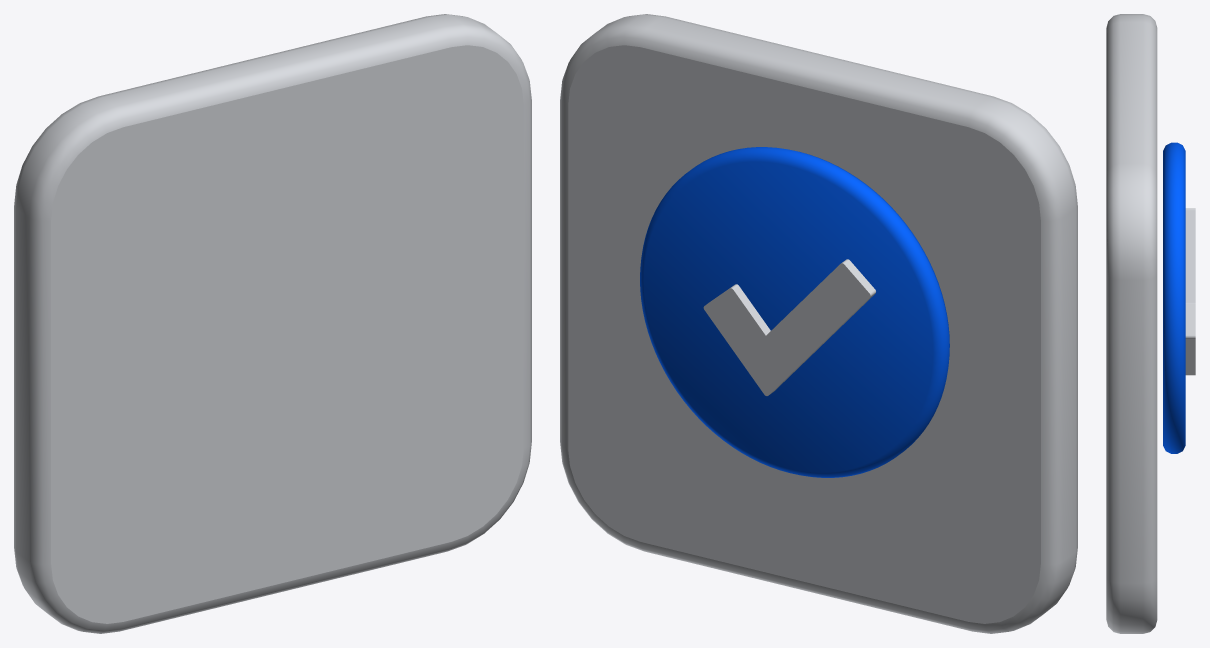
Rendered from 37-nodeworks-solution-icon.glb.
3 renders of one model, left to right at view 1: azimuth 30°, elevation 25°; view 2: azimuth 150°, elevation 25°; view 3: azimuth 270°, elevation 25°, orthographic. The views are drawn at different scales.
Parts seen in each view (by area): view 1: rounded_white_icon_tile; view 2: rounded_white_icon_tile, bevelled_cobalt_solution_disc, white_solution_checkmark; view 3: rounded_white_icon_tile, bevelled_cobalt_solution_disc, white_solution_checkmark.
Part boxes in pixels (x1,y1,x2,y2): rounded_white_icon_tile: [14, 14, 531, 633]; rounded_white_icon_tile: [560, 14, 1077, 633]; bevelled_cobalt_solution_disc: [640, 147, 949, 477]; white_solution_checkmark: [703, 259, 875, 395]; rounded_white_icon_tile: [1106, 14, 1157, 633]; bevelled_cobalt_solution_disc: [1163, 142, 1185, 453]; white_solution_checkmark: [1185, 208, 1195, 375].
Bounding box in the file's own units: 0.18 × 0.18 × 0.0315.
